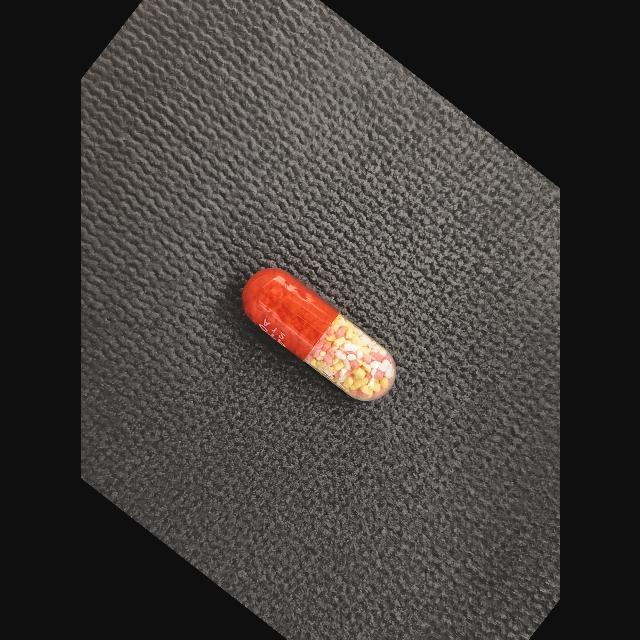Intact Capsule: (241, 268, 396, 401)
